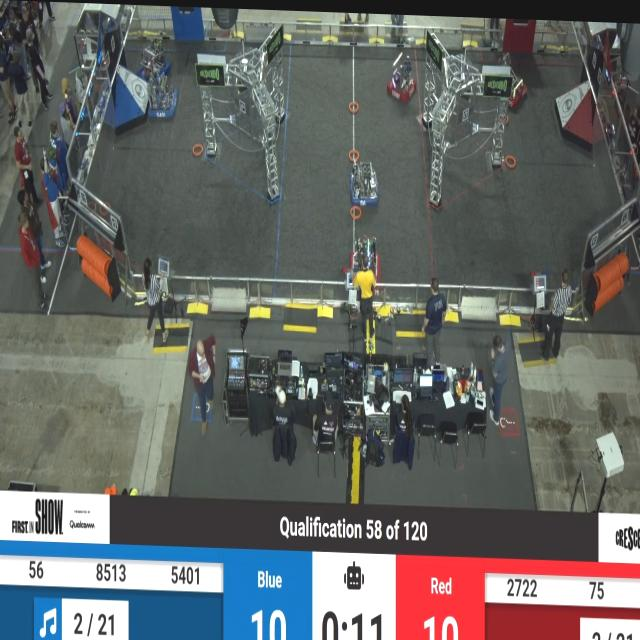Robot: (140, 62, 182, 129), (344, 150, 386, 210), (345, 230, 389, 286), (492, 44, 526, 112), (137, 28, 174, 90), (384, 40, 417, 106)
